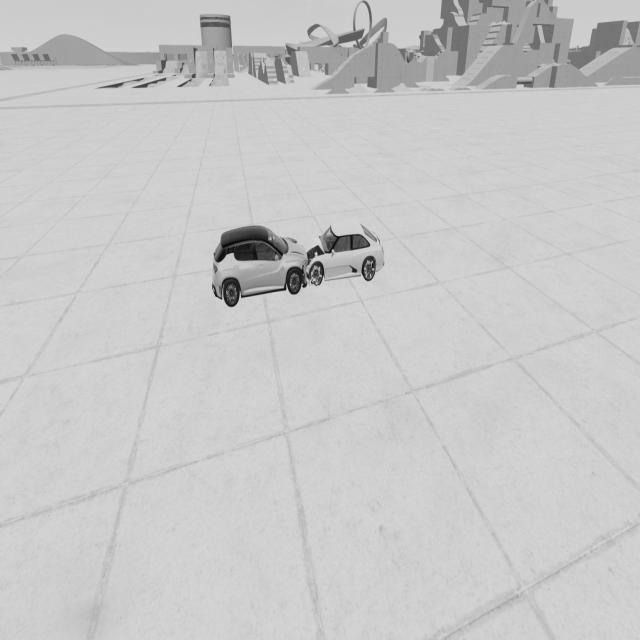accident: (212, 218, 385, 308)
